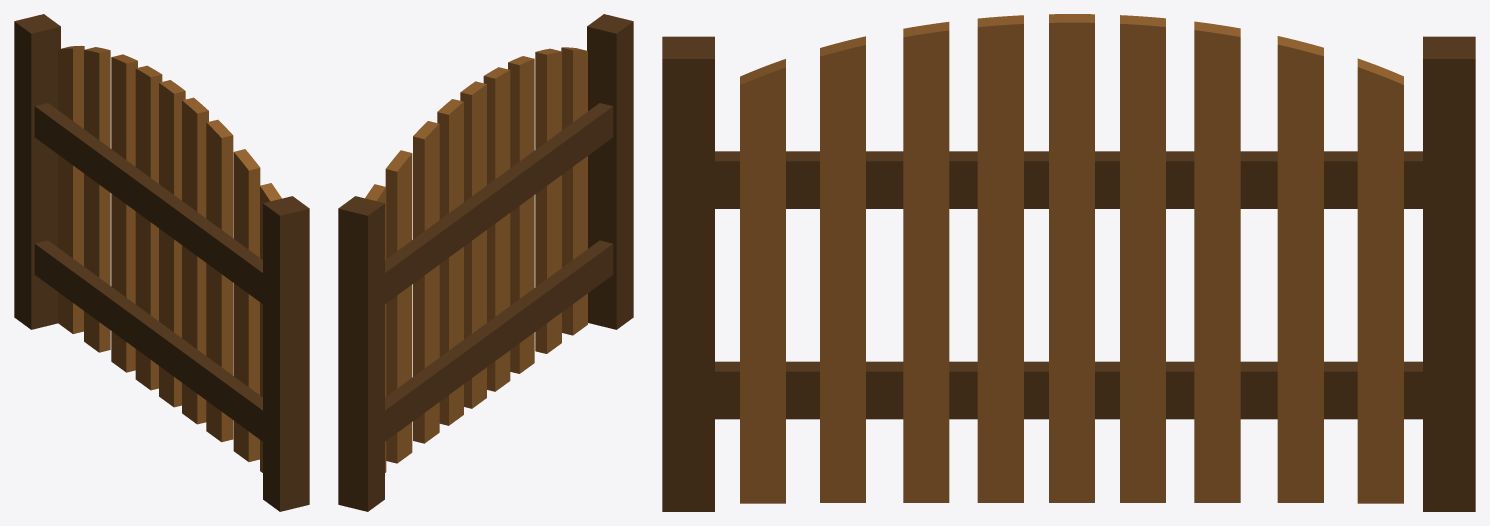
Rendered from Fence_New_4_2.fbx.
3 renders of one model, left to right at view 1: azimuth 30°, elevation 25°; view 2: azimuth 150°, elevation 25°; view 3: azimuth 270°, elevation 25°, orthographic. The views are drawn at different scales.
Visible parts, largest first — view 1: Cube.045, Cube.059; view 2: Cube.045, Cube.059; view 3: Cube.059, Cube.045.
Part boxes in pixels (x1,y1,x2,y2): Cube.045: (14, 14, 309, 511); Cube.059: (58, 45, 281, 472); Cube.045: (338, 14, 633, 511); Cube.059: (365, 47, 587, 472); Cube.059: (740, 14, 1403, 503); Cube.045: (662, 36, 1475, 511).
Size of the model in its own units: 26.38 by 253 by 381.
